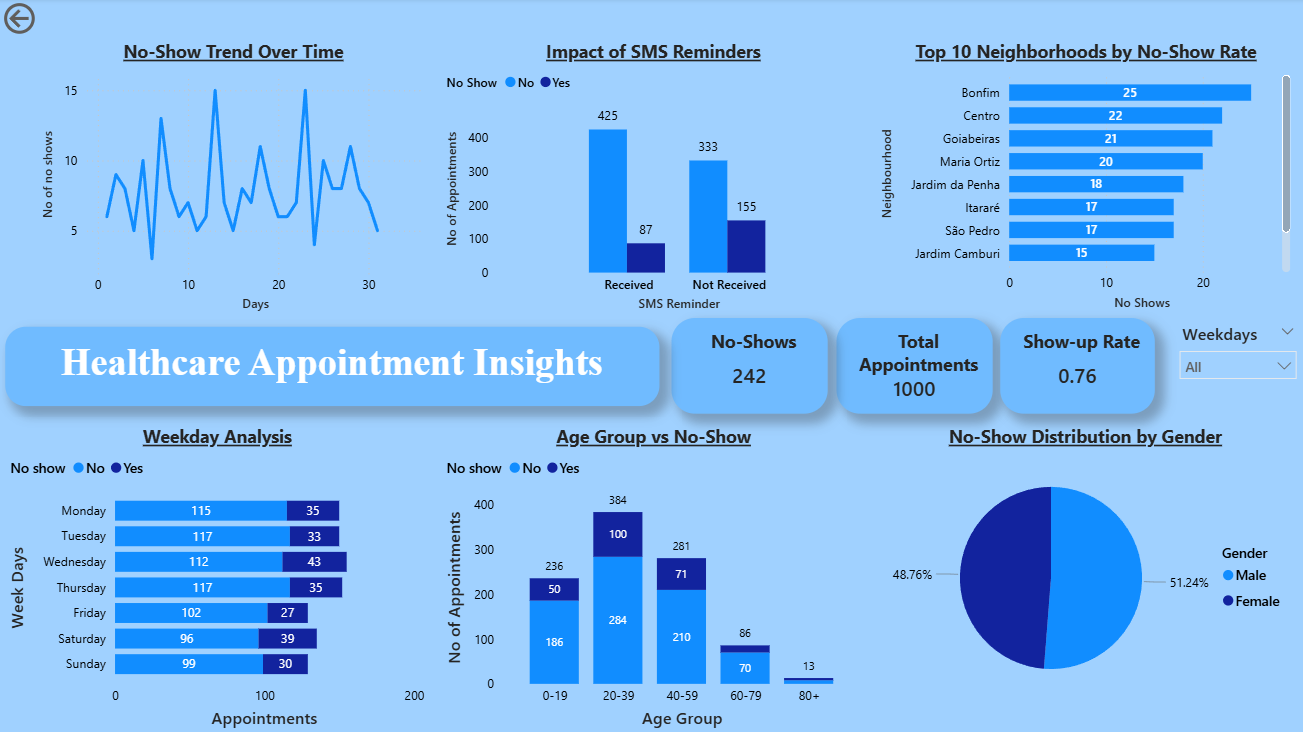

What the dashboard file says about the page in this screenshot:
{"tool":"powerbi","page":{"name":"Page 1","canvas":[1280,720],"ordinal":0},"visuals":[{"type":"actionButton","box":[0,0,100,40],"z":0},{"type":"card","title":"Total Appointments","fields":{"Values":["CountNonNull(appointments_dataset.AppointmentID)"]},"box":[818.8,312.5,152.5,93.8],"z":1000},{"type":"card","title":"No-Shows","fields":{"Values":["CountNonNull(appointments_dataset.No_show)"]},"box":[657.5,312.5,152.5,93.8],"z":2000},{"type":"card","title":"Show-up Rate","fields":{"Values":["appointments_dataset.Showup_rate"]},"box":[980,312.5,151.2,93.8],"z":3000},{"type":"lineChart","title":"No-Show Trend Over Time","fields":{"Y":["CountNonNull(appointments_dataset.AppointmentID)"],"Category":["appointments_dataset.AppointmentDay.Variation.Date Hierarchy.Day"]},"box":[38.4,39.8,382.8,271.7],"z":4000},{"type":"barChart","title":"Weekday Analysis","fields":{"Y":["CountNonNull(appointments_dataset.AppointmentID)"],"Category":["appointments_dataset.Appointment Weekday"],"Series":["appointments_dataset.No_show"]},"box":[6.2,417.5,415,302.5],"z":5000},{"type":"clusteredColumnChart","title":"Impact of SMS Reminders","fields":{"Category":["appointments_dataset.SMS_Status"],"Y":["CountNonNull(appointments_dataset.AppointmentID)"],"Series":["appointments_dataset.No_show"]},"box":[432.9,40.4,414.5,271.5],"z":6000},{"type":"columnChart","title":"Age Group vs No-Show","fields":{"Category":["appointments_dataset.Age Group"],"Y":["CountNonNull(appointments_dataset.AppointmentID)"],"Series":["appointments_dataset.No_show"]},"box":[432.5,417.5,415,302.5],"z":7000},{"type":"pieChart","title":"No-Show Distribution by Gender","fields":{"Y":["CountNonNull(appointments_dataset.AppointmentID)"],"Category":["appointments_dataset.Gender"]},"box":[857.5,417.5,411.2,278.8],"z":8000},{"type":"barChart","title":"Top 10 Neighborhoods by No-Show Rate","fields":{"Category":["appointments_dataset.Neighbourhood"],"Y":["appointments_dataset.NoShow Count"]},"box":[858.8,40,410,270],"z":9000},{"type":"slicer","fields":{"Values":["appointments_dataset.Appointment Weekday"]},"box":[1145,311.2,135,92.5],"z":10000},{"type":"textbox","box":[6.2,321.2,640,77.5],"z":11000}]}

Visuals, with their boxes in screenshot pixels (x1, y1, x2, y2), scaled from the page's 1280x720 canvas onto the 1303x732 screenshot:
actionButton: rect(0, 0, 102, 41)
"Total Appointments" card: rect(834, 318, 989, 413)
"No-Shows" card: rect(669, 318, 825, 413)
"Show-up Rate" card: rect(998, 318, 1152, 413)
"No-Show Trend Over Time" lineChart: rect(39, 40, 429, 317)
"Weekday Analysis" barChart: rect(6, 424, 429, 731)
"Impact of SMS Reminders" clusteredColumnChart: rect(441, 41, 863, 317)
"Age Group vs No-Show" columnChart: rect(440, 424, 863, 731)
"No-Show Distribution by Gender" pieChart: rect(873, 424, 1291, 708)
"Top 10 Neighborhoods by No-Show Rate" barChart: rect(874, 41, 1292, 315)
slicer - appointments_dataset.Appointment Weekday: rect(1166, 316, 1302, 410)
textbox: rect(6, 327, 658, 405)
